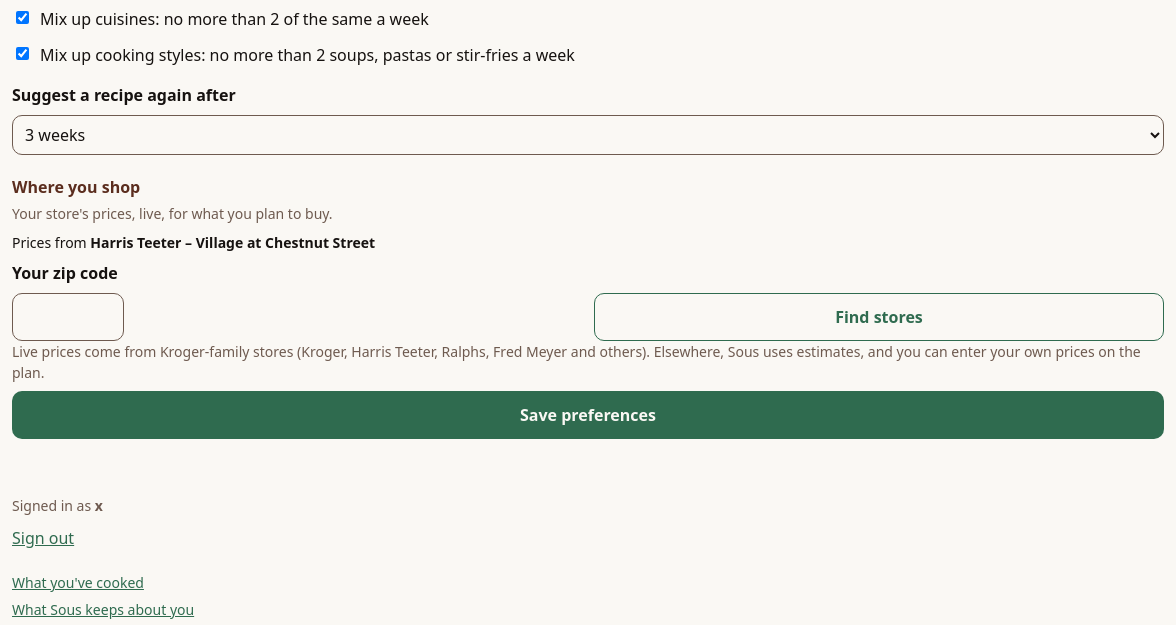
Test case: Settings › says when saving fails
The width and height of the screenshot is (1176, 625).
(page scrolled)
Click the button "Save preferences" at point(588, 415), box [12,391,1164,439]
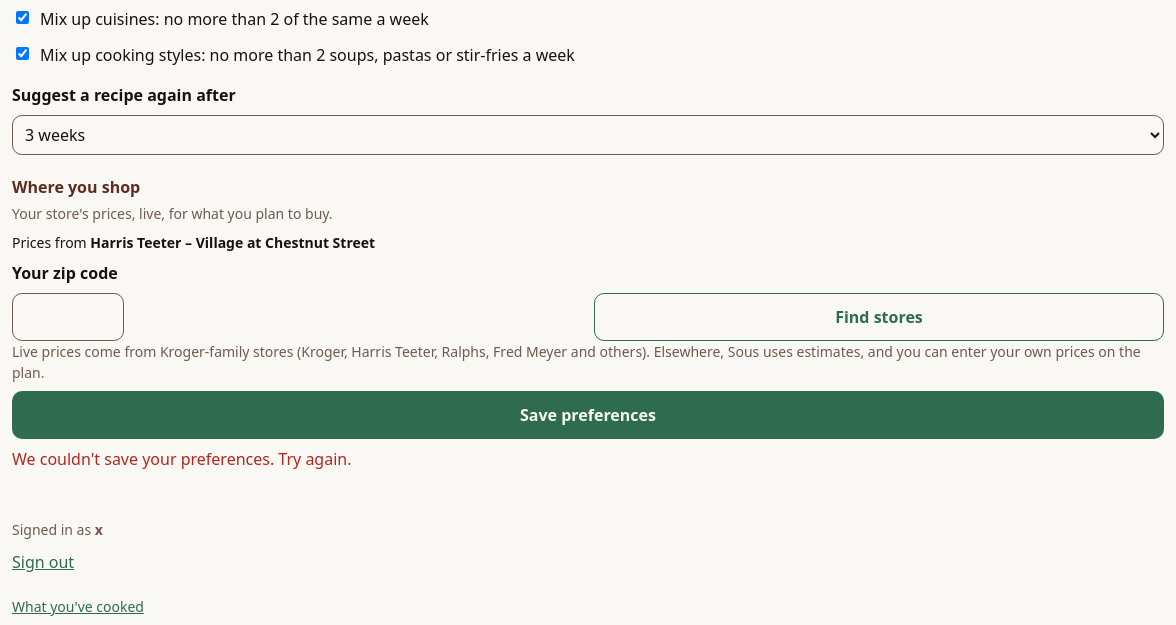
Expected: the text "We couldn't save your preferences. Try again." is shown, [12,448,352,470]
